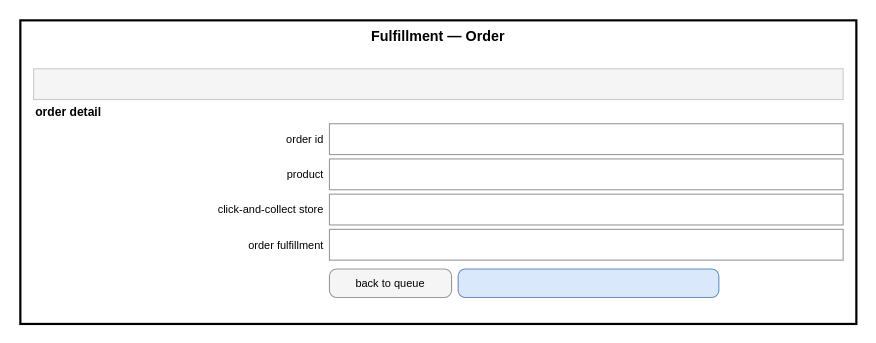
Some shapes in this 876 by 343 pixel diagram are drawn without their labels. The shapes that lost their labels are listed below. From the top down, each one's box as (x1, y1, x2, y2) in pixels, then its label:
(32, 68, 843, 100): employee header · store · Fulfillment · Sign out
(457, 268, 719, 298): fulfill click-and-collect order
